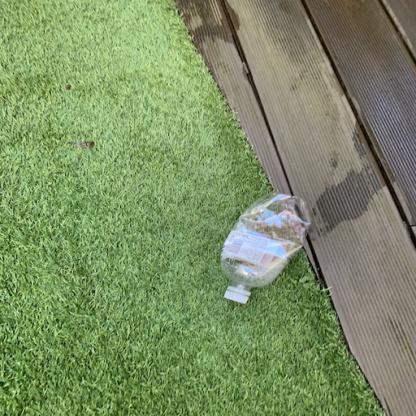trash: (217, 191, 317, 308)
